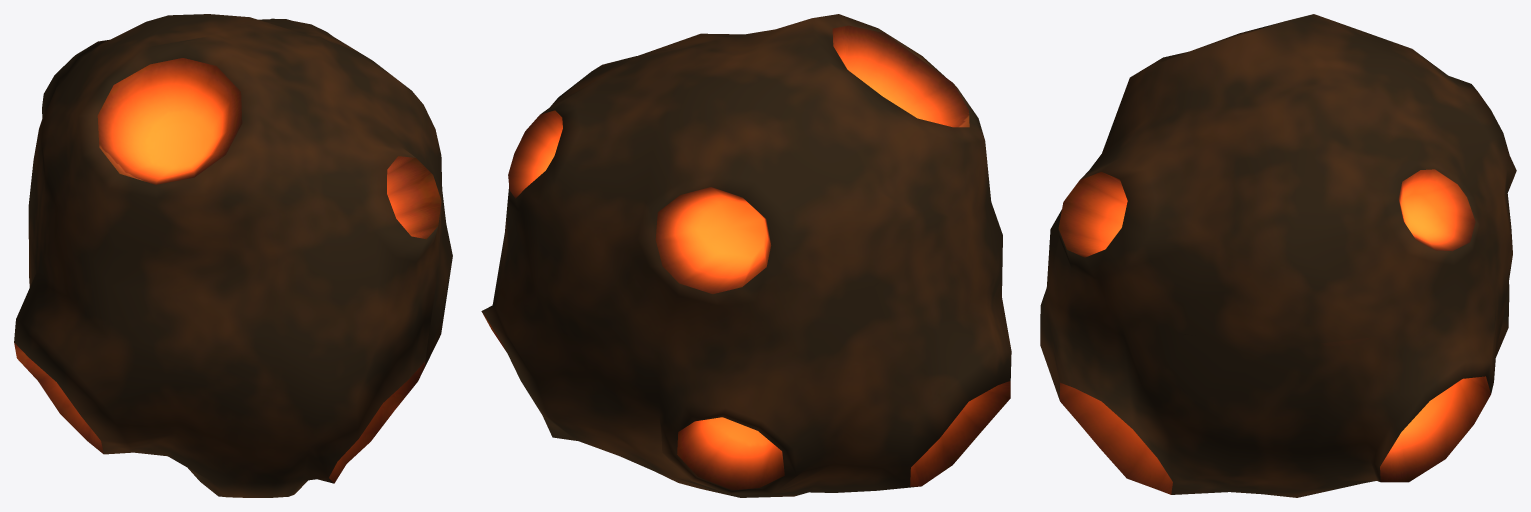
The model's file is Meteorite.fbx.
3 views of the same model, side by side, from view 1: azimuth 30°, elevation 25°; view 2: azimuth 150°, elevation 25°; view 3: azimuth 270°, elevation 25° (orthographic). The views are drawn at different scales.
Parts seen in each view (by area): view 1: Icosphere; view 2: Icosphere; view 3: Icosphere.
Boxes of the visible parts, x1,y1,x2,y2 form: Icosphere: [14, 14, 452, 497]; Icosphere: [481, 14, 1011, 497]; Icosphere: [1040, 14, 1516, 497].
Bounding box in the file's own units: 259 × 267 × 255.
